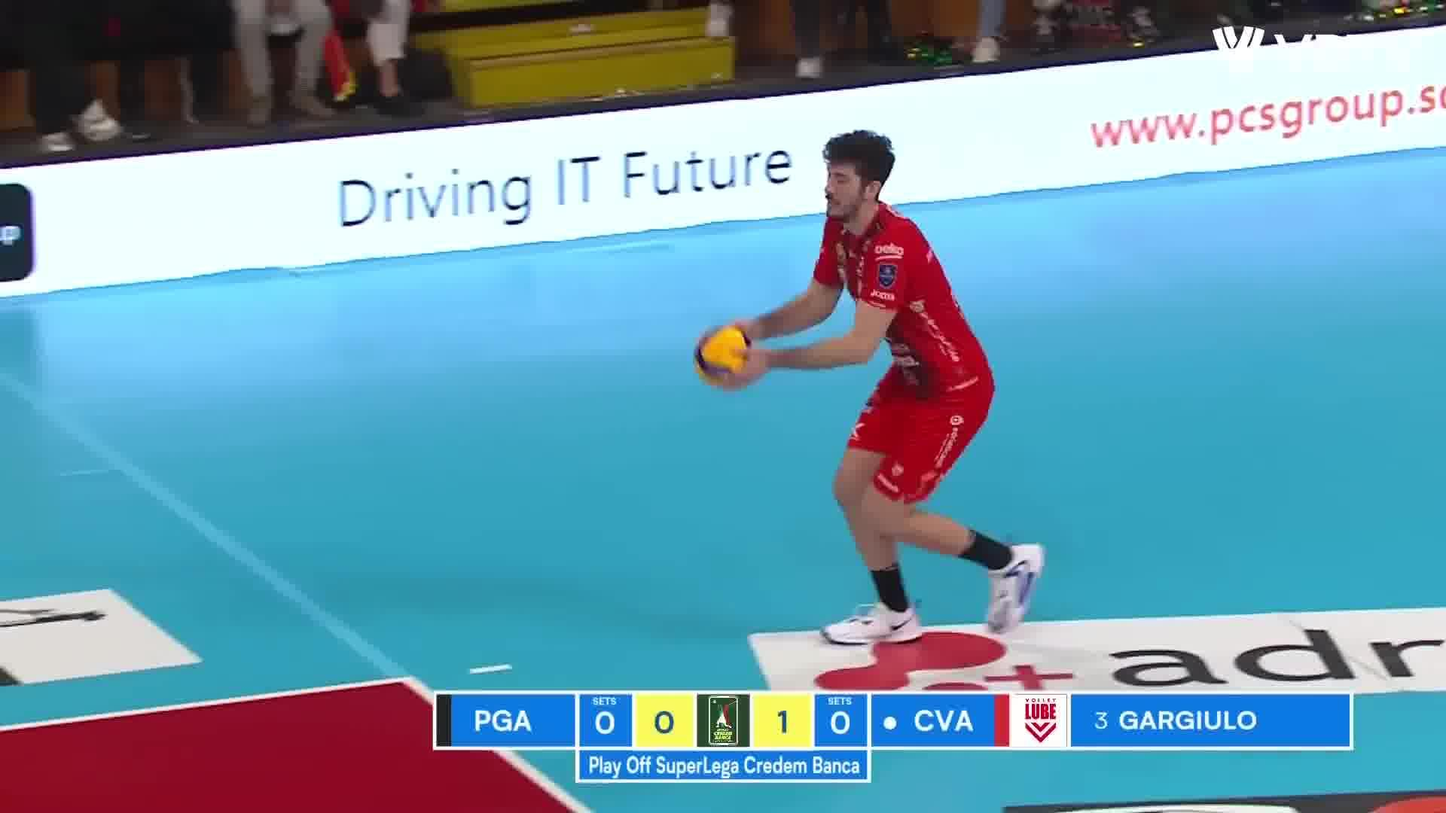balls: (691, 318, 759, 388)
